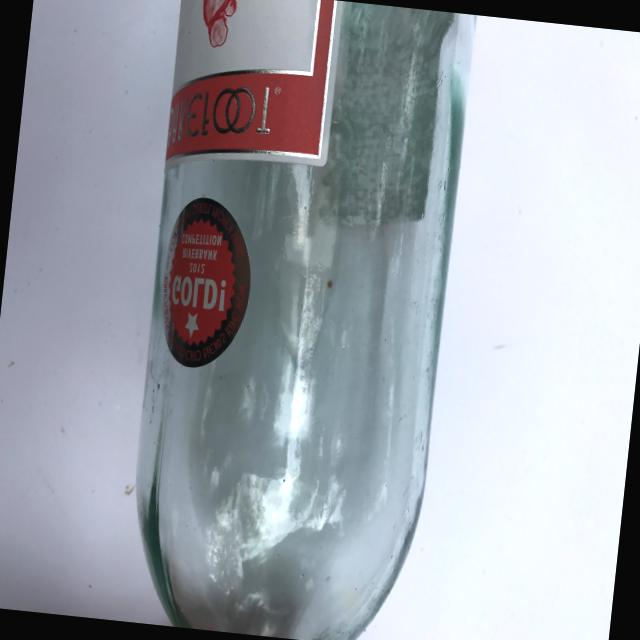Glass: (93, 0, 494, 640)
